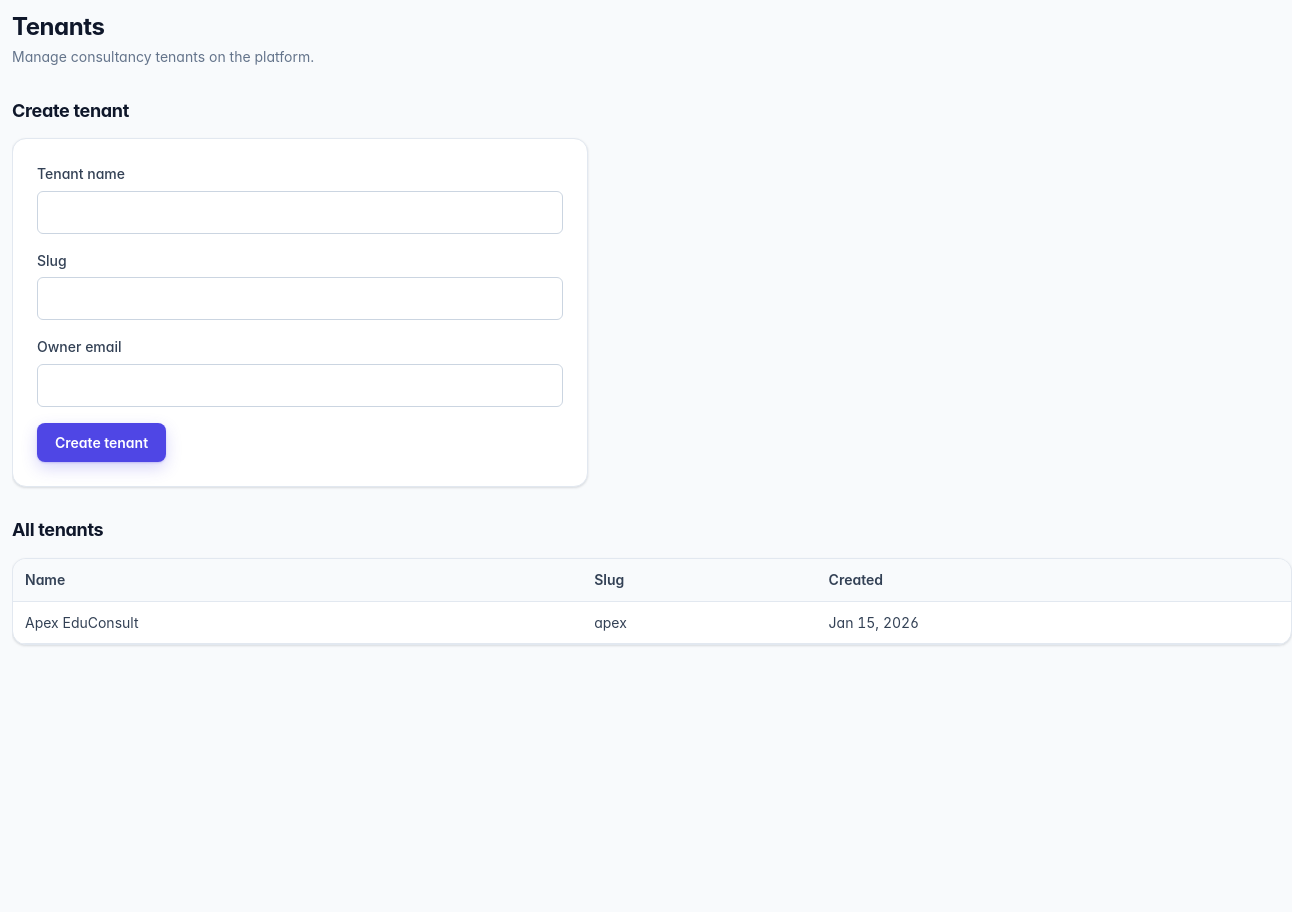
TenantsPage › shows create error from API
In the field with test id "tenant-name": (300, 212) [37,191,563,234], type "Apex EduConsult"
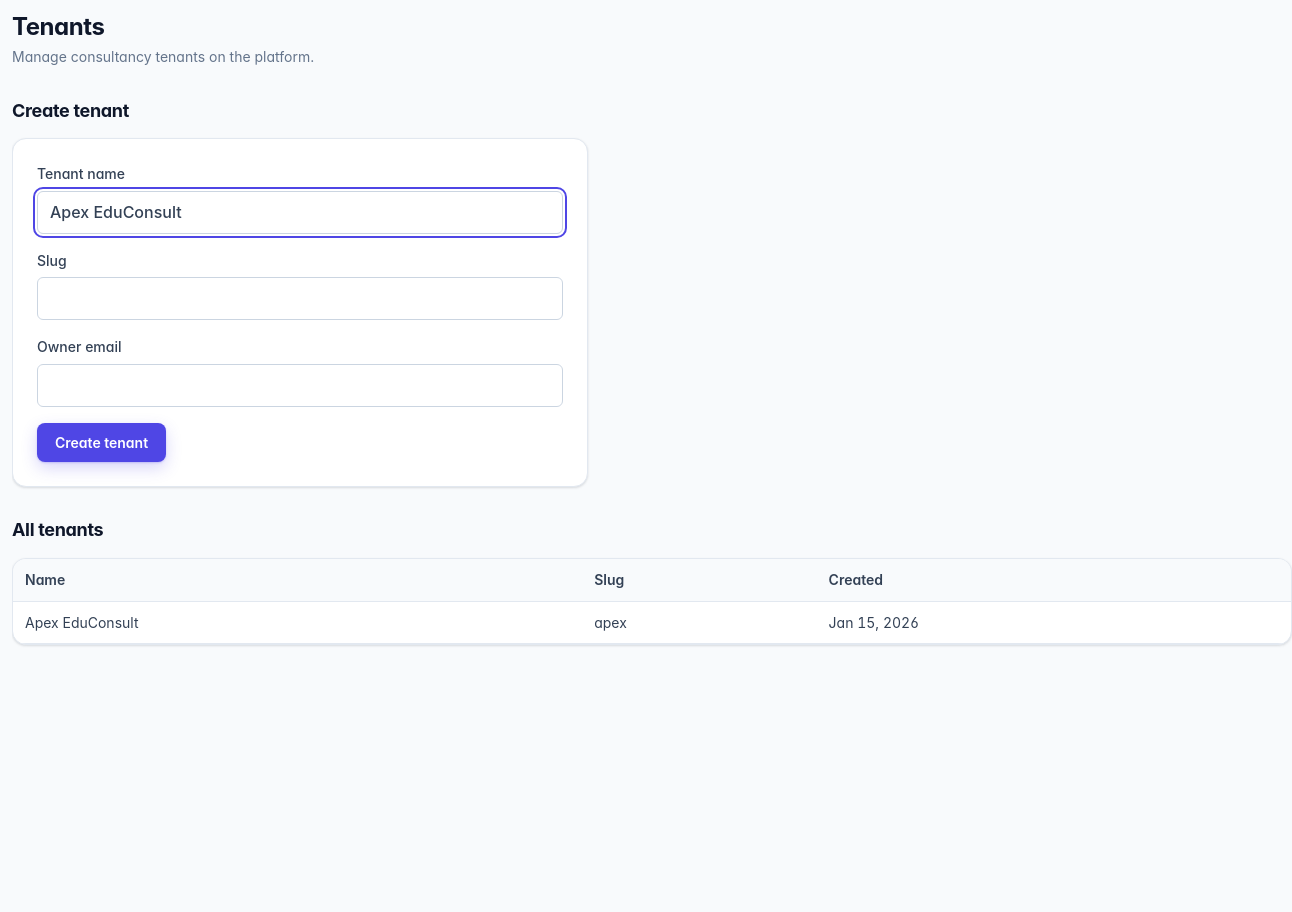
In the field with test id "tenant-slug": (300, 299) [37,277,563,320], type "apex"
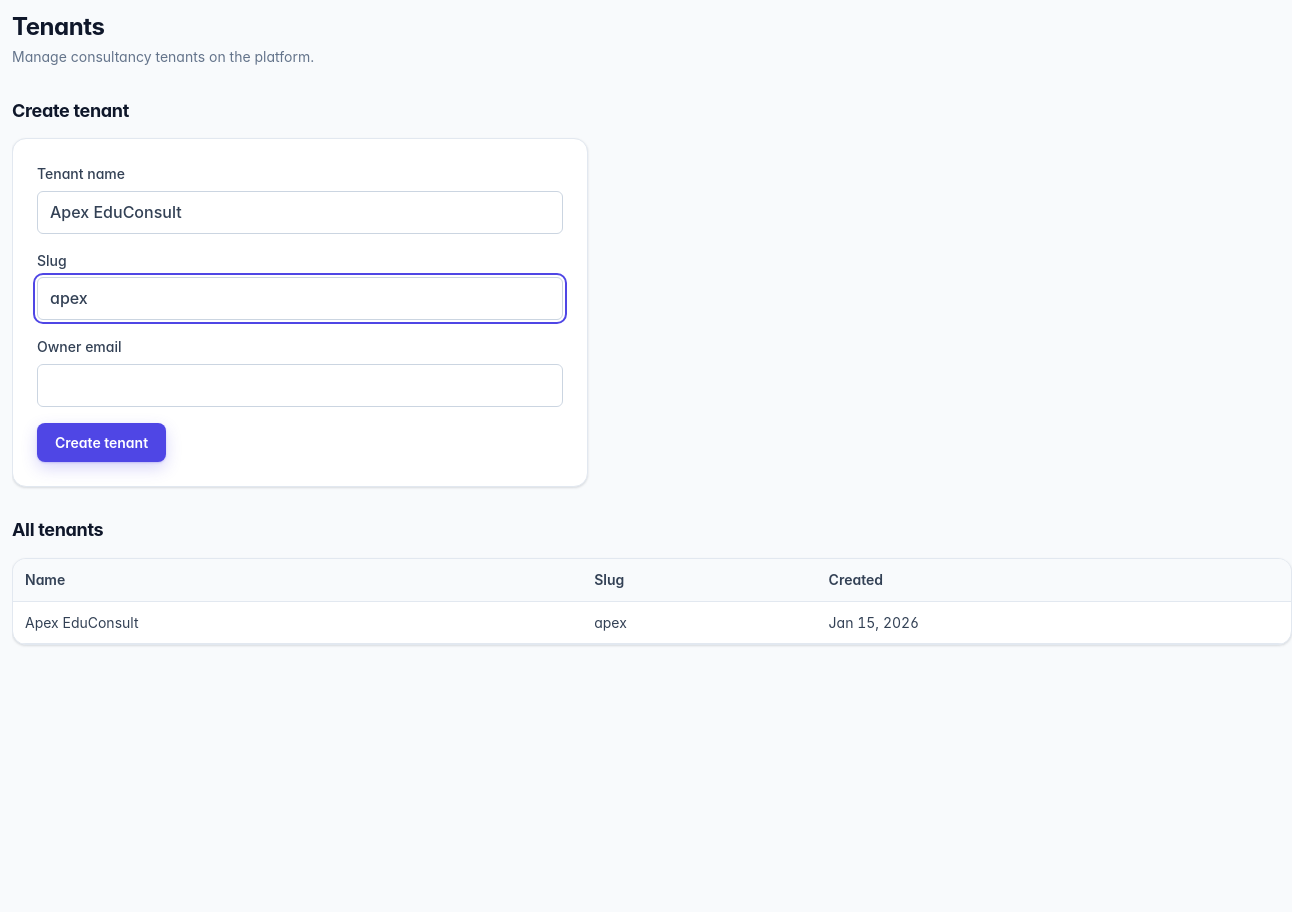
In the field with test id "tenant-owner-email": (300, 385) [37,364,563,407], type "owner@apex.test"
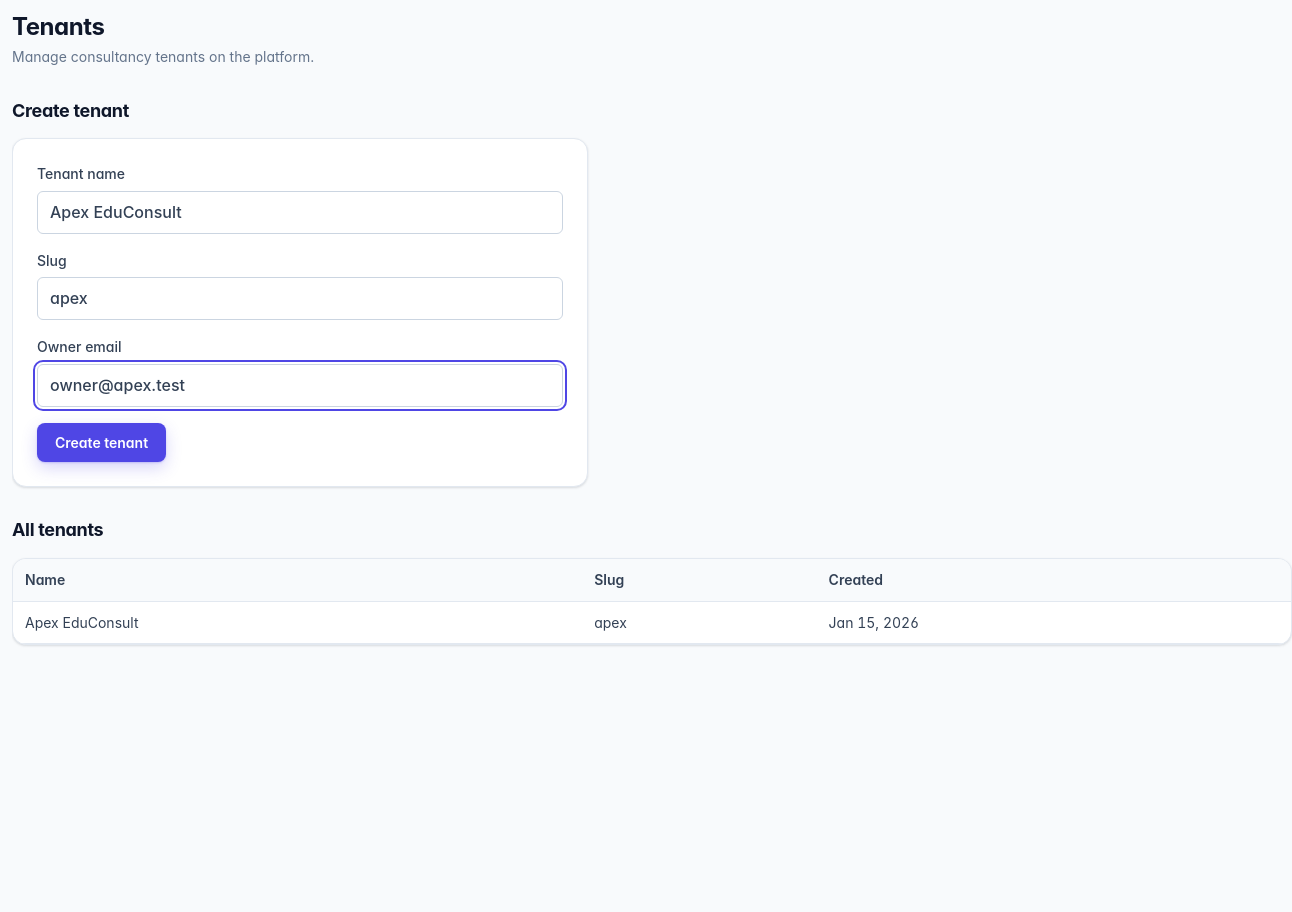
Click the button with test id "tenant-create-submit": (102, 442) [37,423,166,462]
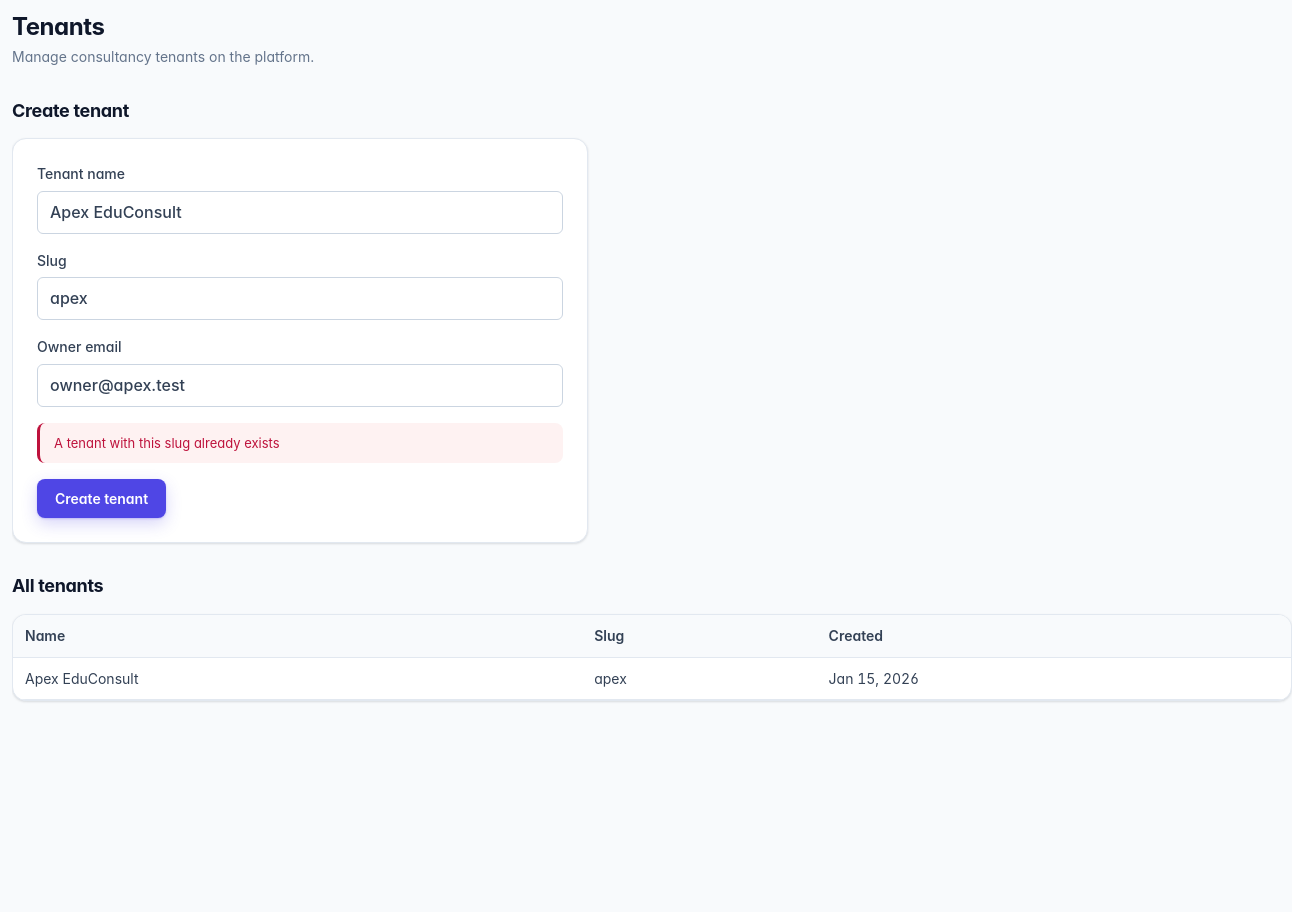
Expected: the message "A tenant with this slug already exists" is shown, [37,423,563,463]
Expected: the message with test id "tenant-create-error" reads "A tenant with this slug already exists", [54,435,280,451]
